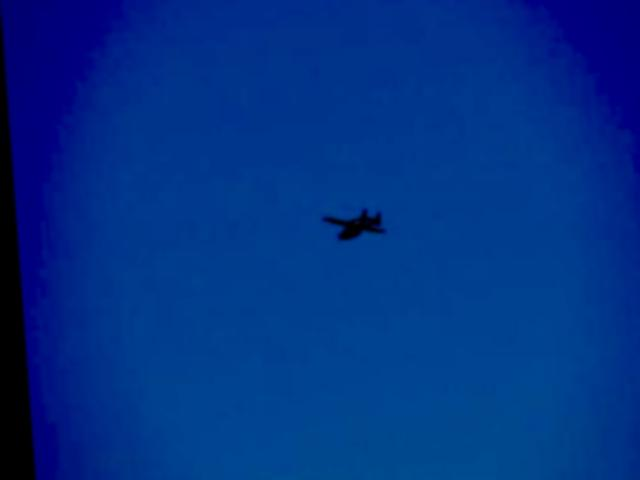uav: (319, 210, 388, 242)
